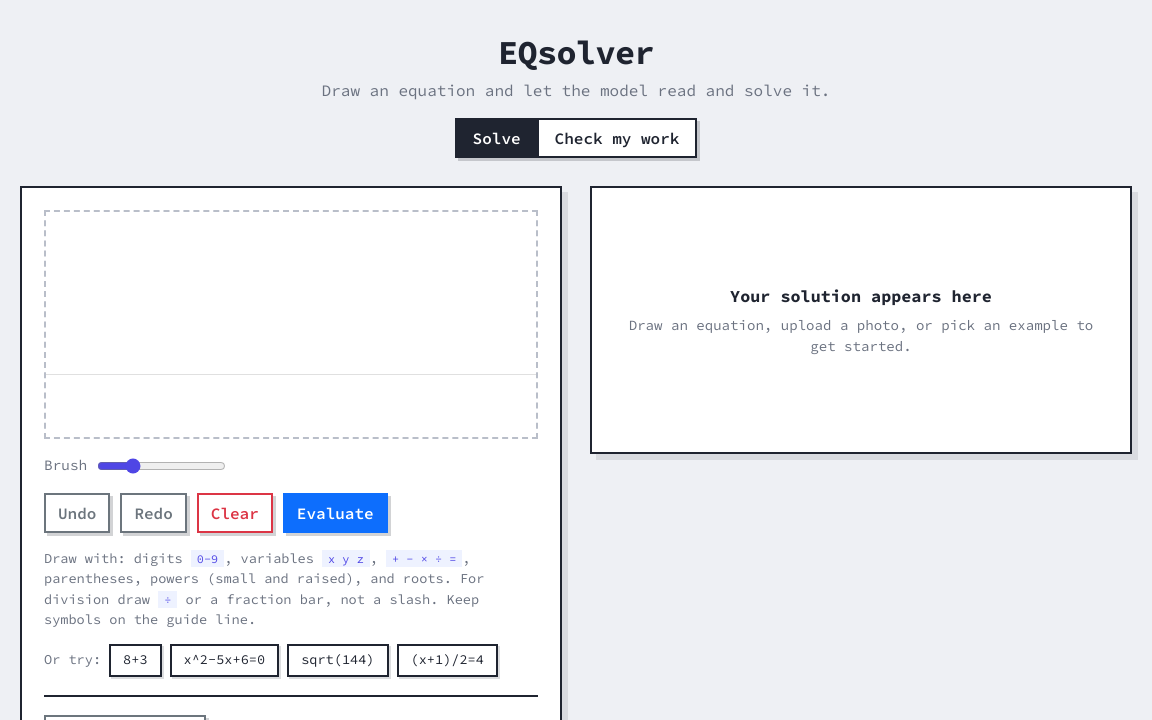
it: App › switches to check my work and back, keeping the solver
Click the button "Check my work".
click(616, 138)  # box [537,120,695,156]
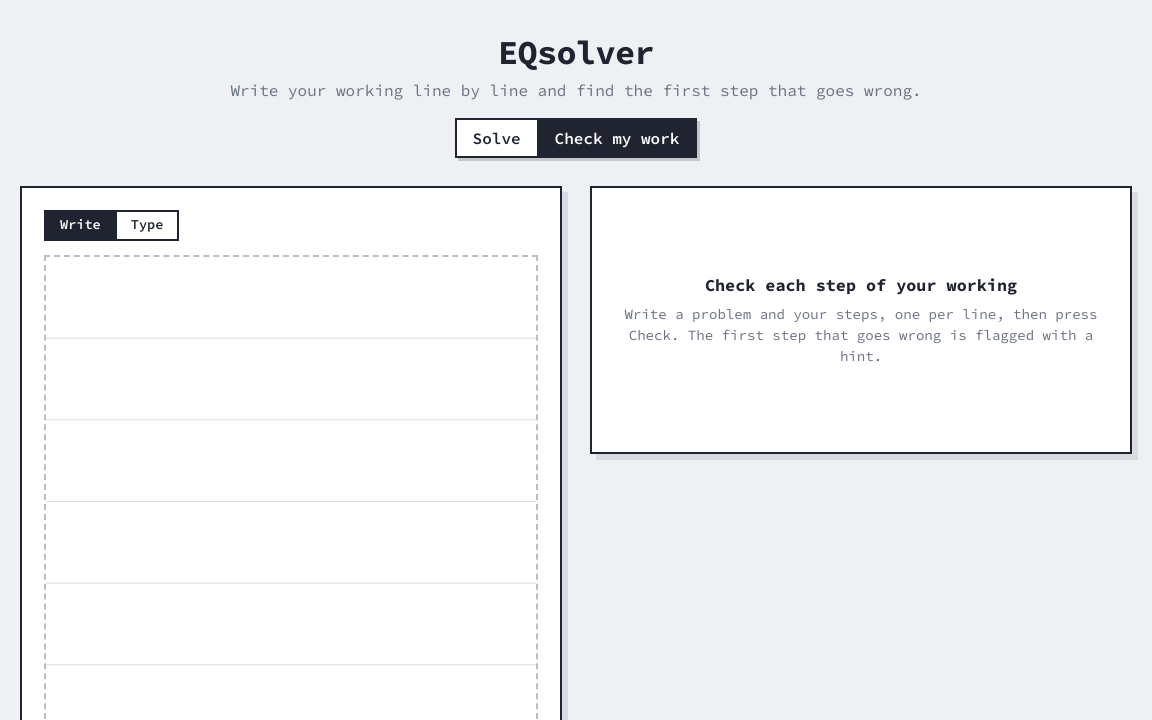
Check: the button "Evaluate" is gone
Click the button "Solve".
click(497, 138)  # box [457,120,537,156]
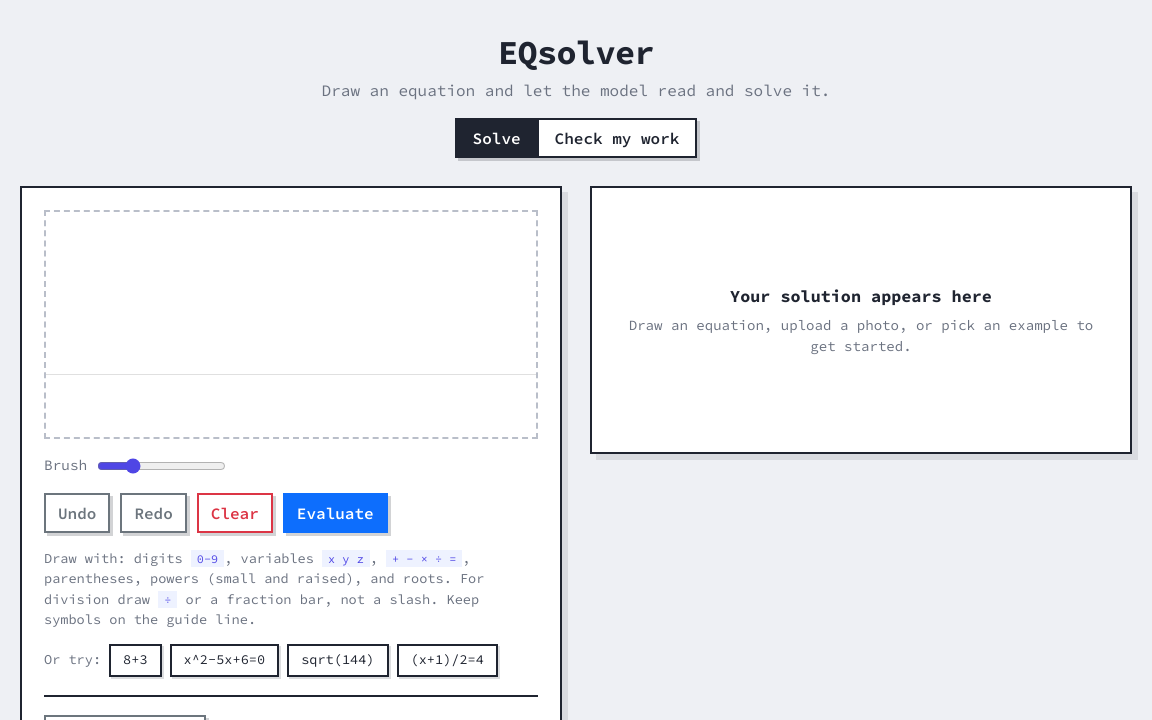
Check: the button "Evaluate" is shown, box [283,493,388,533]
